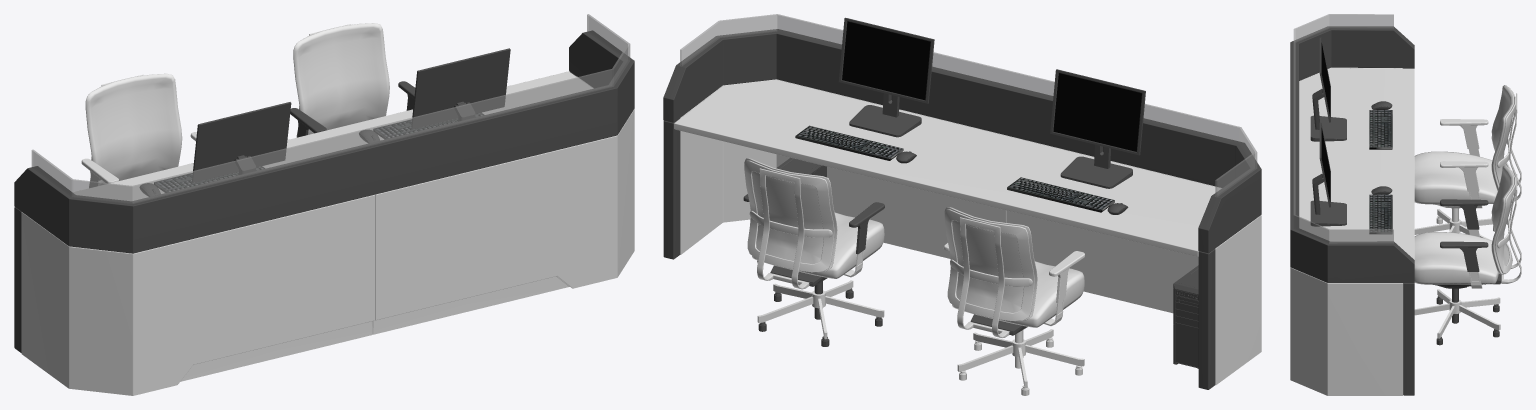
File: BanGongZhuo.fbx
3 renders of one model, left to right at view 1: azimuth 30°, elevation 25°; view 2: azimuth 150°, elevation 25°; view 3: azimuth 270°, elevation 25°, orthographic. The views are drawn at different scales.
Visible parts, largest first — view 1: BanGongZhuo, BanGongTaoJian09 (×2), Computer_XianShiQi (×2), BanGongTaoJian00 (×2), Computer_JianPan (×2); view 2: BanGongZhuo, Computer_XianShiQi (×2), BanGongTaoJian08 (×2), BanGongTaoJian09 (×2), BanGongTaoJian06 (×2), BanGongTaoJian00 (×2), BanGongTaoJian07 (×2), Computer_JianPan (×2), Computer_ZhuJi (×2); view 3: BanGongZhuo, BanGongTaoJian06 (×2), BanGongTaoJian00 (×2), Computer_XianShiQi (×2), BanGongTaoJian09 (×2), BanGongTaoJian08 (×2), Computer_JianPan (×2), BanGongTaoJian07 (×2).
Boxes of the visible parts, x1,y1,x2,y2 form: BanGongZhuo: (14, 14, 634, 395); BanGongTaoJian09 (×2): (85, 23, 389, 185); Computer_XianShiQi (×2): (192, 48, 510, 182); BanGongTaoJian00 (×2): (81, 81, 415, 187); Computer_JianPan (×2): (154, 113, 483, 192); BanGongZhuo: (663, 14, 1261, 389); Computer_XianShiQi (×2): (838, 17, 1145, 188); BanGongTaoJian08 (×2): (744, 160, 1034, 338); BanGongTaoJian09 (×2): (744, 158, 1037, 320); BanGongTaoJian06 (×2): (752, 212, 1084, 327); BanGongTaoJian00 (×2): (743, 194, 1084, 395); BanGongTaoJian07 (×2): (757, 280, 1084, 387); Computer_JianPan (×2): (795, 125, 1114, 212); Computer_ZhuJi (×2): (757, 157, 1198, 368); BanGongZhuo: (1290, 14, 1414, 395); BanGongTaoJian06 (×2): (1414, 151, 1498, 284); BanGongTaoJian00 (×2): (1433, 119, 1501, 345); Computer_XianShiQi (×2): (1310, 37, 1346, 226); BanGongTaoJian09 (×2): (1491, 85, 1514, 274); BanGongTaoJian08 (×2): (1495, 87, 1521, 283); Computer_JianPan (×2): (1369, 110, 1392, 233); BanGongTaoJian07 (×2): (1414, 209, 1500, 338).
Bounding box in the file's own units: 250 × 99.97 × 112.
7 materials, 1 textured.
